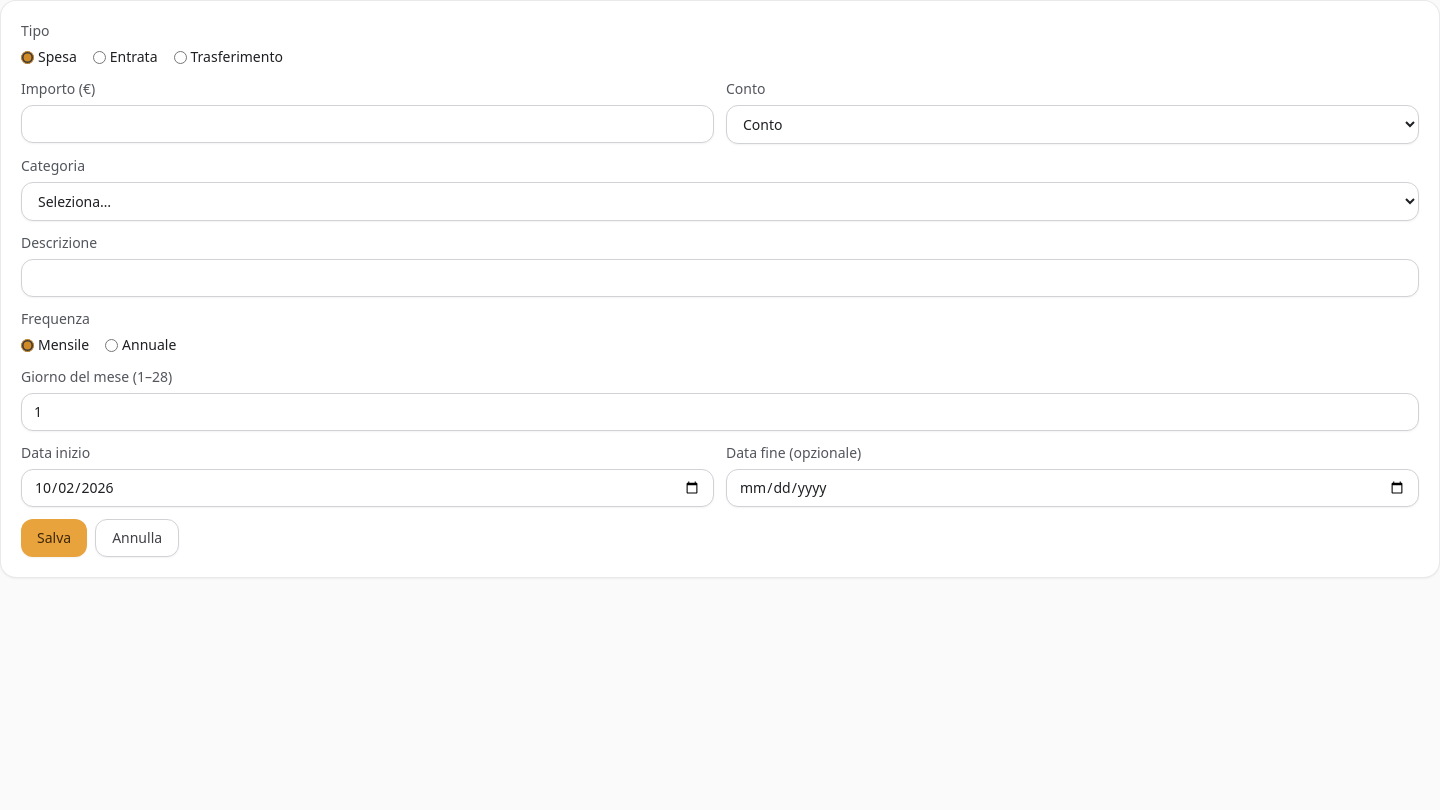
RecurringRuleForm › shows month field only when yearly is selected
What coordinates should you click on to do the following:
click the radio button labelled "Annuale"
I would click on:
 (112, 345)
Its box is [105, 338, 118, 352].
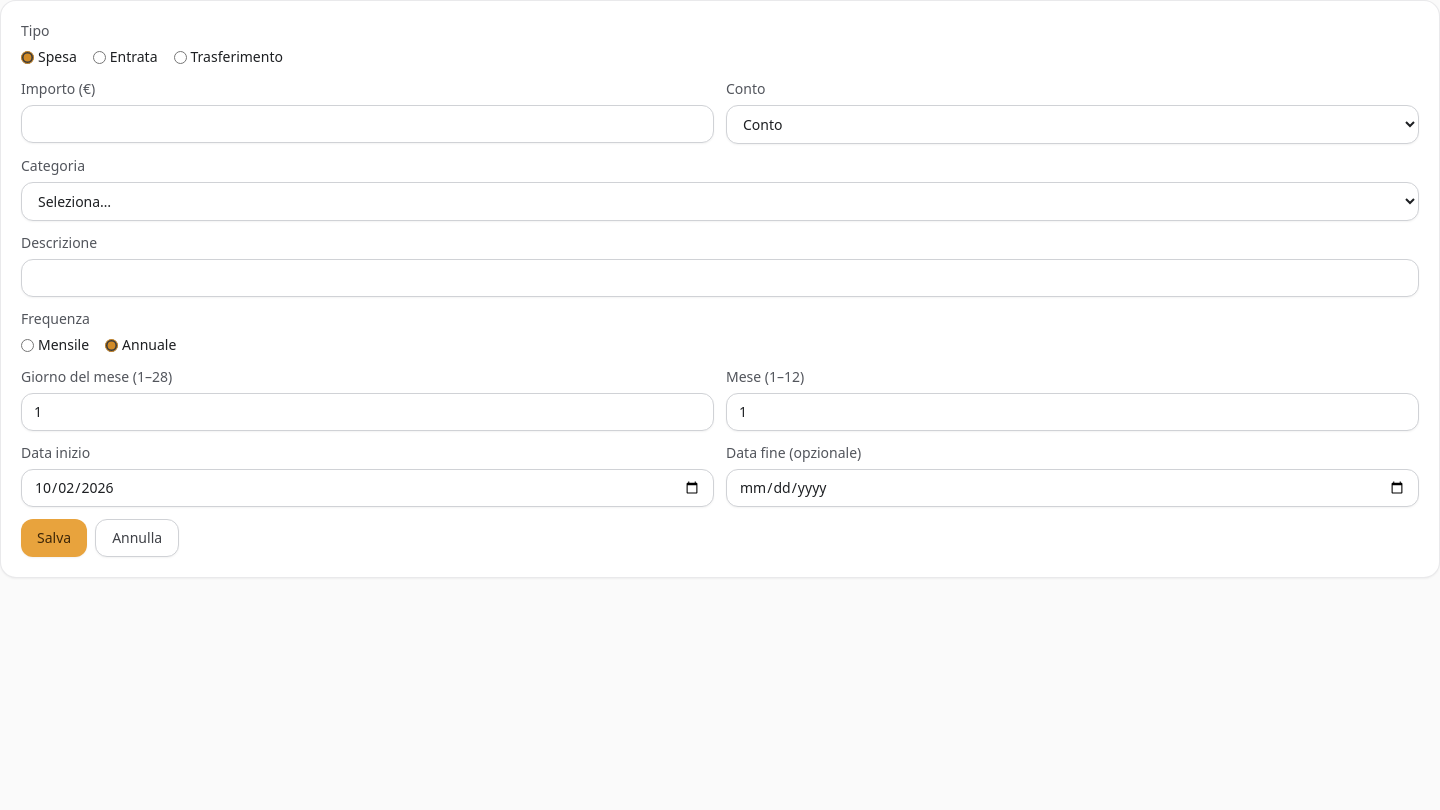
Result: the number field labelled "Mese (1–12)" is shown at [726, 393, 1419, 431]
